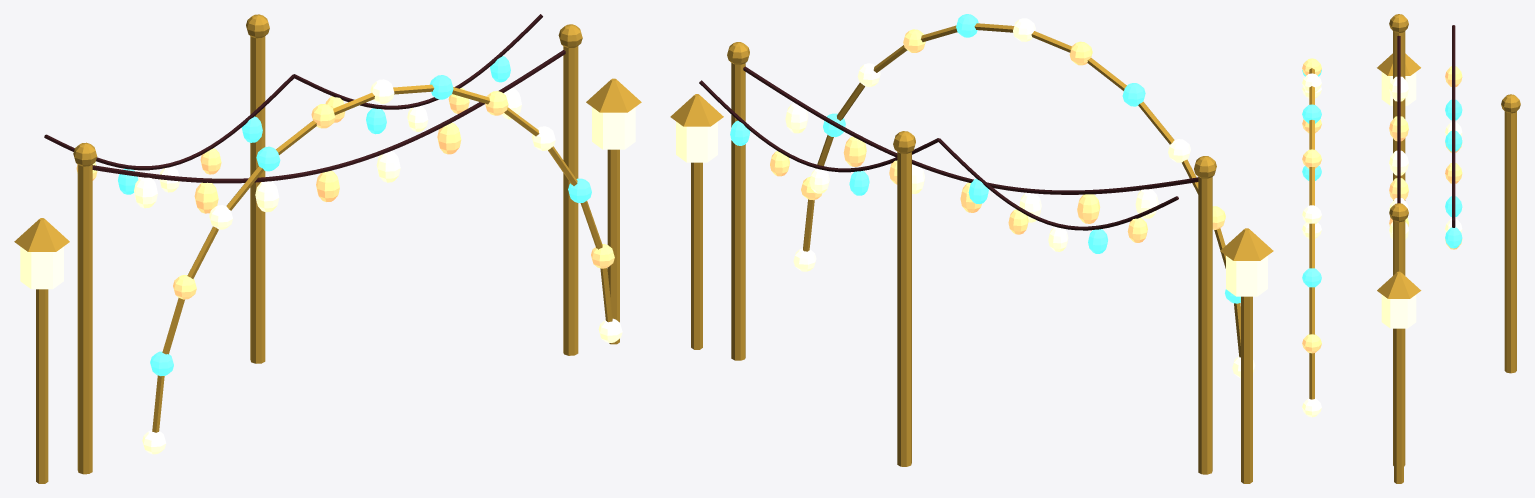
File: decoracao-luzinhas-n3.glb
3 views of the same model, side by side, from view 1: azimuth 30°, elevation 25°; view 2: azimuth 150°, elevation 25°; view 3: azimuth 270°, elevation 25° (orthographic). The views are drawn at different scales.
Visible parts, largest first — view 1: Cylinder, Cylinder.001, Cylinder.042, Cylinder.103, Cylinder.105, Cylinder.106, Cylinder.104, Cone.001, Cone; view 2: Cylinder.042, Cylinder, Cylinder.001, Cylinder.103, Cylinder.105, Cylinder.106, Cylinder.104, Cone.001, Cone; view 3: Cylinder.042, Cylinder.105, Cylinder.001, Cylinder.106, Cylinder, Cone.001, Cylinder.104, Cone, Sphere.002, Sphere.003, Sphere.004, Sphere.005 (+14 smaller).
Boxes of the visible parts, x1,y1,x2,y2 form: Cylinder: (77, 164, 92, 474); Cylinder.001: (563, 46, 578, 355); Cylinder.042: (250, 36, 265, 363); Cylinder.103: (36, 289, 48, 483); Cylinder.105: (607, 149, 619, 344); Cylinder.106: (592, 107, 635, 149); Cylinder.104: (20, 246, 63, 289); Cone.001: (586, 78, 641, 112); Cone: (14, 218, 69, 251); Cylinder.042: (897, 152, 911, 466); Cylinder: (1198, 177, 1212, 474); Cylinder.001: (731, 63, 745, 360); Cylinder.103: (1241, 296, 1252, 483); Cylinder.105: (691, 162, 702, 349); Cylinder.106: (676, 121, 717, 162); Cylinder.104: (1226, 255, 1267, 296); Cone.001: (670, 94, 723, 126); Cone: (1220, 228, 1273, 260); Cylinder.042: (1504, 111, 1516, 373); Cylinder.105: (1394, 328, 1403, 483); Cylinder.001: (1393, 220, 1405, 466); Cylinder.106: (1381, 294, 1416, 328); Cylinder: (1393, 31, 1405, 200); Cone.001: (1377, 271, 1421, 298); Cylinder.104: (1381, 72, 1416, 105); Cone: (1377, 53, 1420, 75); Sphere.002: (1389, 76, 1408, 101); Sphere.003: (1389, 116, 1408, 141); Sphere.004: (1389, 150, 1408, 175); Sphere.005: (1389, 178, 1408, 200).
Size of the model in its own units: 2.28 by 1.32 by 0.88.
